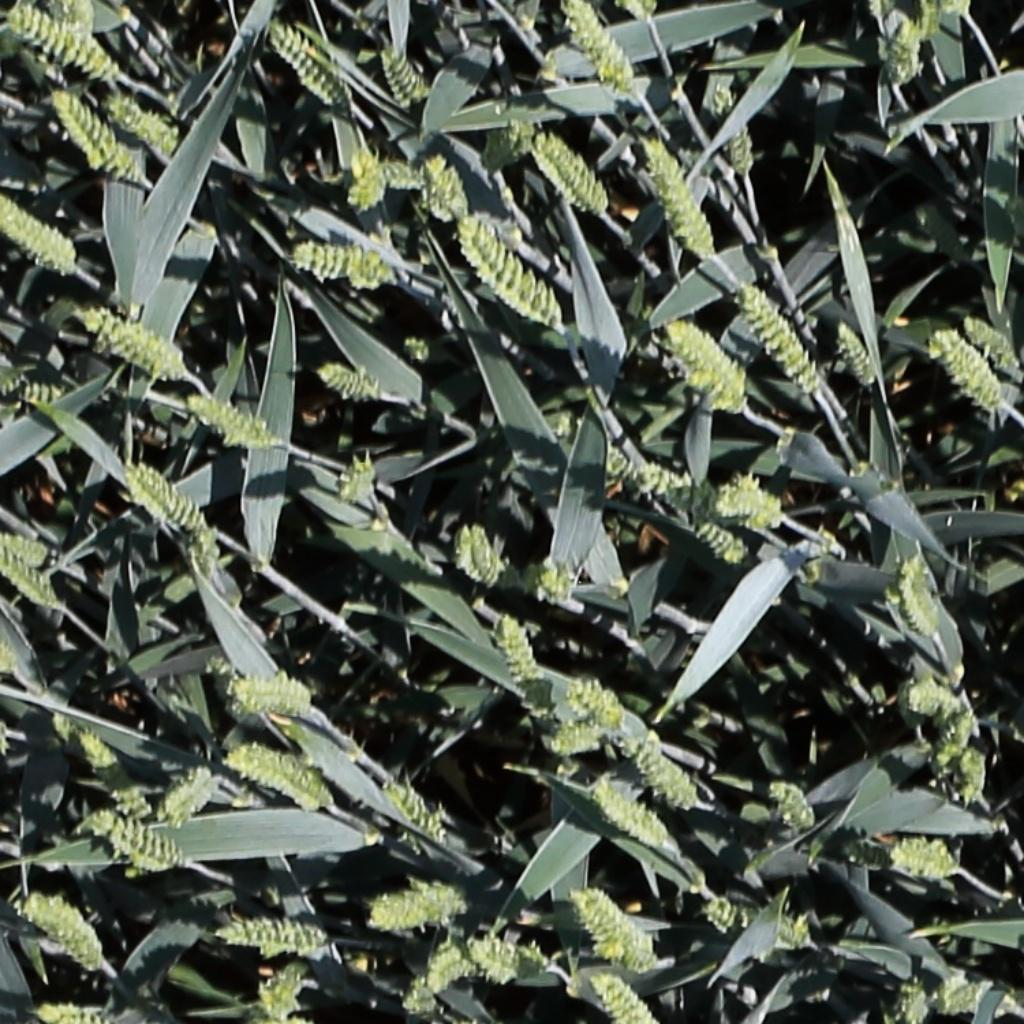0-0: (461, 218, 567, 327), (641, 126, 719, 259), (754, 274, 841, 390), (221, 736, 340, 820), (59, 703, 143, 814), (6, 1, 121, 81), (666, 473, 750, 579), (50, 87, 141, 180), (685, 890, 810, 955), (267, 19, 353, 113), (218, 909, 336, 977), (561, 0, 640, 98), (131, 462, 221, 548), (551, 400, 638, 488), (80, 305, 184, 378), (87, 815, 197, 882), (613, 729, 700, 812), (287, 239, 402, 295), (681, 352, 760, 433), (580, 887, 658, 968), (929, 327, 1003, 412), (0, 189, 76, 270), (535, 131, 610, 212), (362, 879, 476, 932), (178, 387, 280, 445), (221, 659, 313, 722), (0, 354, 76, 430), (411, 925, 485, 1001), (729, 476, 822, 536), (595, 780, 670, 853), (23, 897, 101, 966), (706, 76, 756, 180), (463, 929, 555, 985), (382, 781, 456, 849), (344, 151, 456, 195), (467, 113, 541, 178), (568, 969, 653, 1024), (569, 887, 630, 962), (107, 94, 180, 155), (495, 608, 544, 696), (928, 705, 980, 787), (0, 543, 60, 611), (882, 828, 959, 879), (962, 309, 1022, 374), (378, 38, 428, 114), (901, 552, 942, 643), (834, 315, 883, 391), (157, 768, 217, 830), (563, 660, 622, 714), (258, 959, 307, 1024), (424, 148, 465, 222), (458, 521, 499, 592), (770, 779, 820, 835), (48, 0, 102, 47), (318, 363, 386, 400), (891, 15, 922, 91), (352, 137, 383, 212), (338, 451, 378, 507), (959, 740, 988, 811), (539, 555, 576, 607), (0, 528, 50, 562), (638, 468, 703, 494), (938, 980, 991, 1011), (396, 331, 442, 366), (0, 598, 19, 677), (902, 974, 932, 1024), (36, 1004, 110, 1024), (543, 728, 604, 751), (918, 0, 942, 47), (623, 0, 660, 27)
